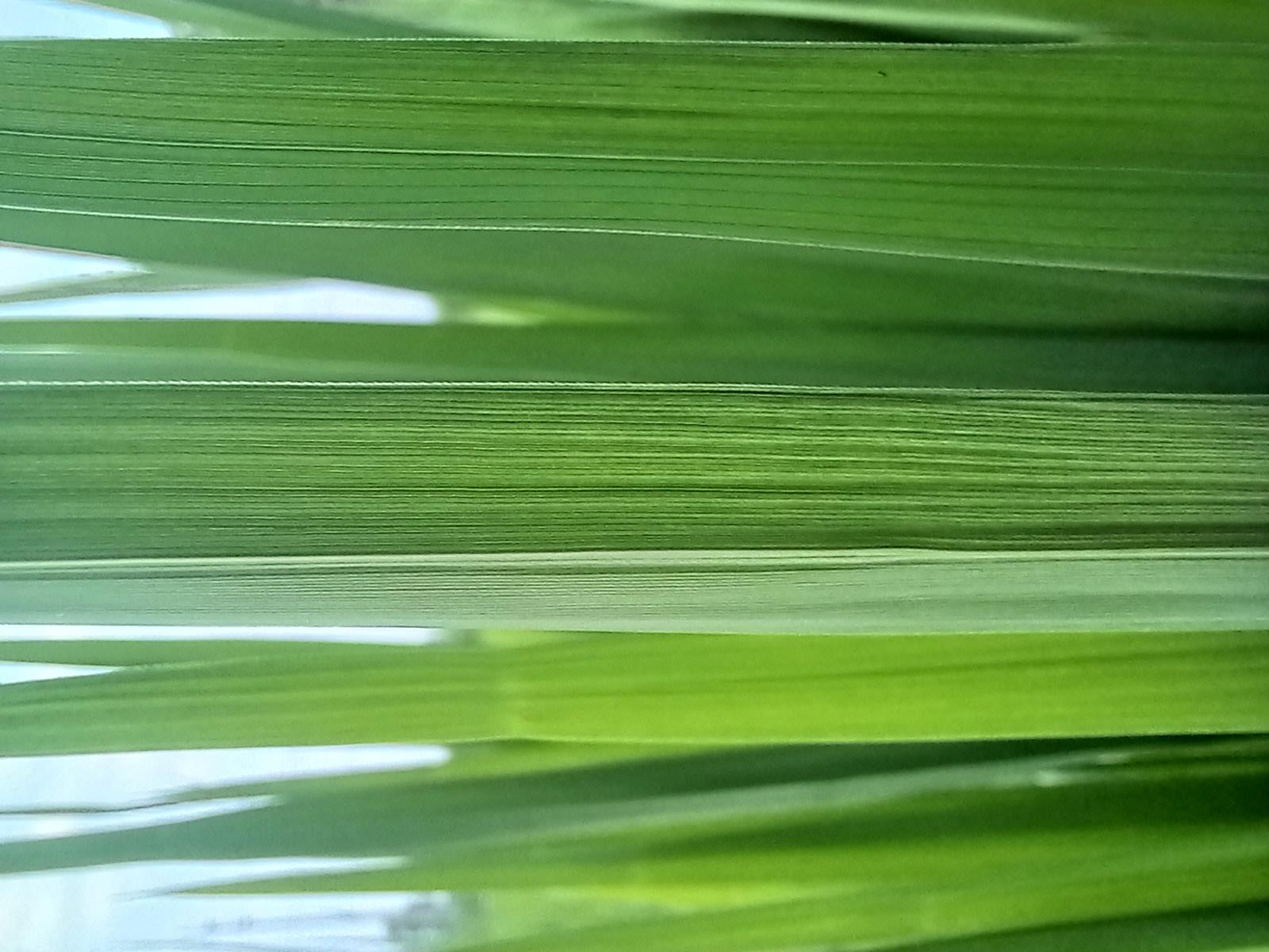Healthy: (425, 0, 765, 951)
